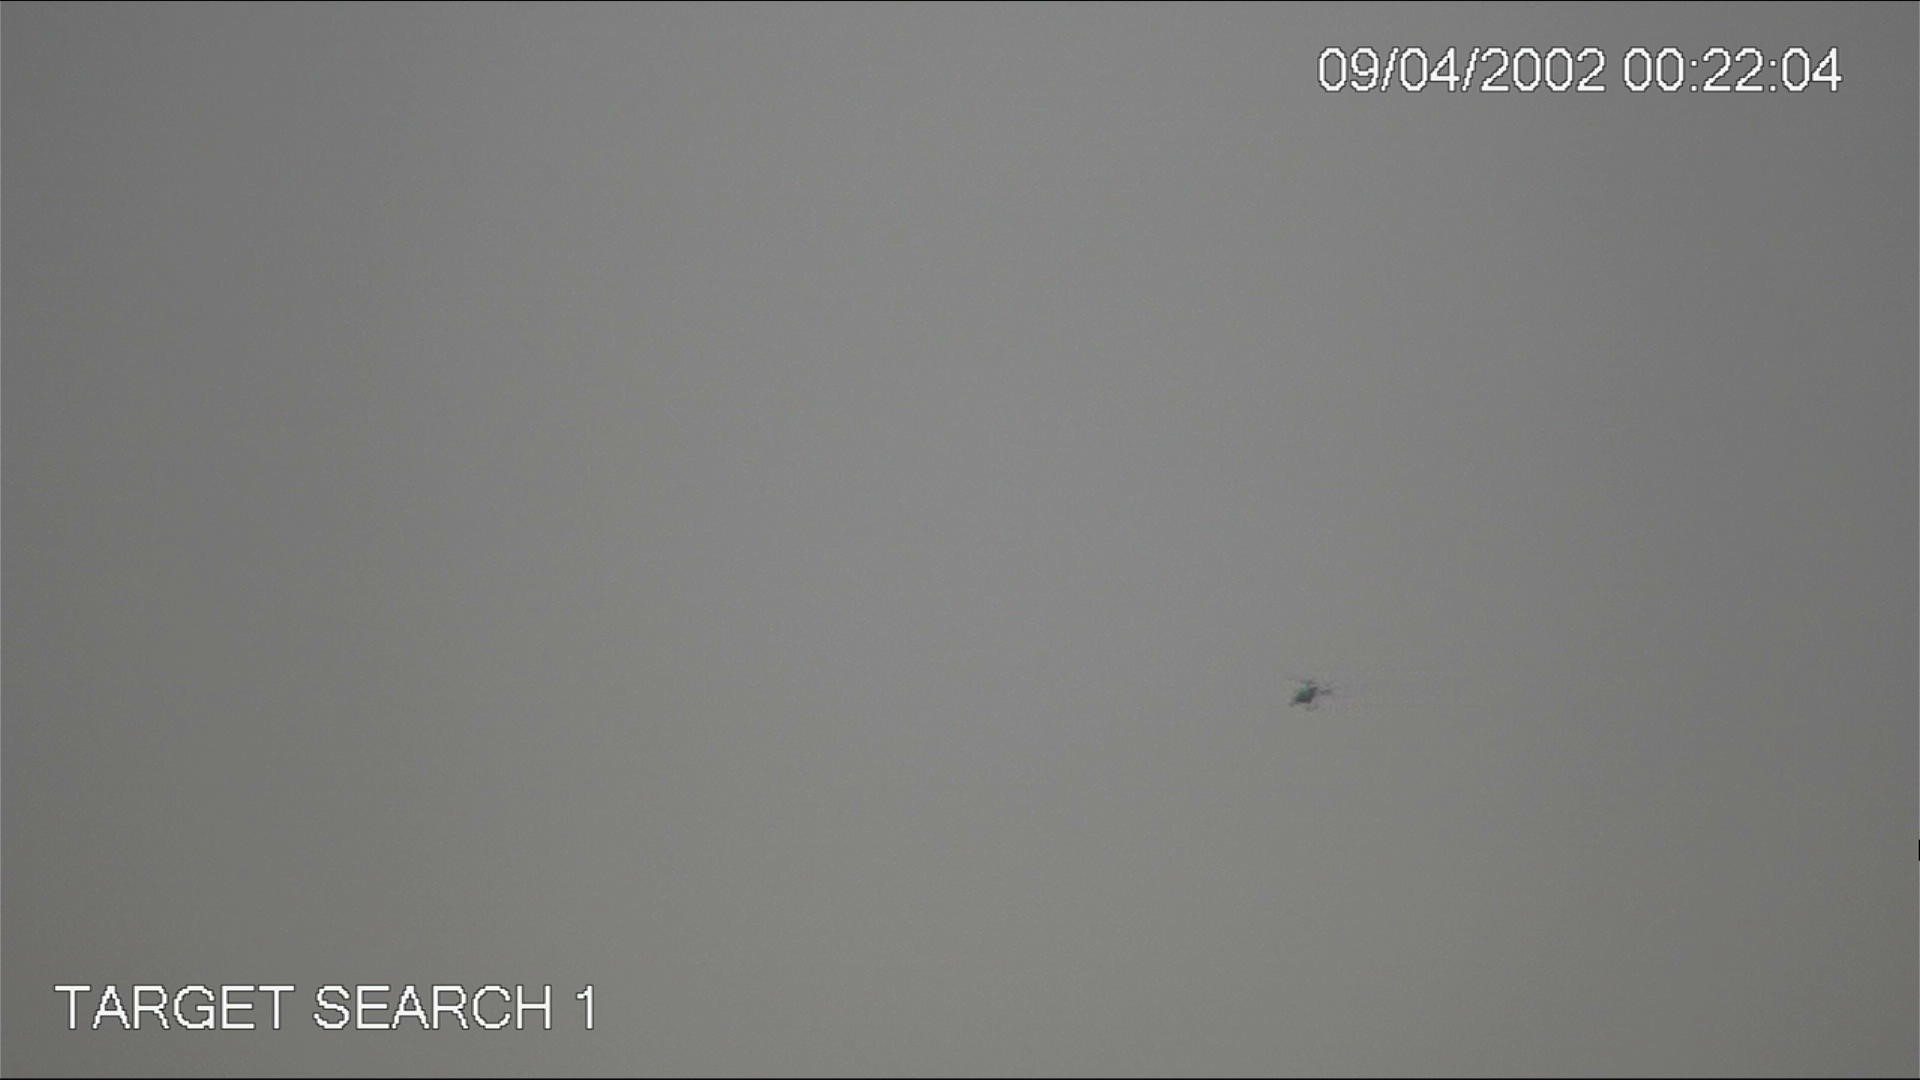SU_30: (1283, 674, 1337, 708)
